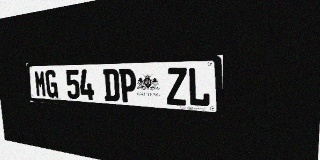4: (79, 69, 94, 100)
5: (66, 69, 80, 99)
D: (103, 69, 120, 102)
G: (45, 70, 58, 98)
L: (188, 67, 210, 107)
M: (34, 70, 47, 97)
P: (119, 68, 137, 103)
Z: (166, 68, 187, 106)
